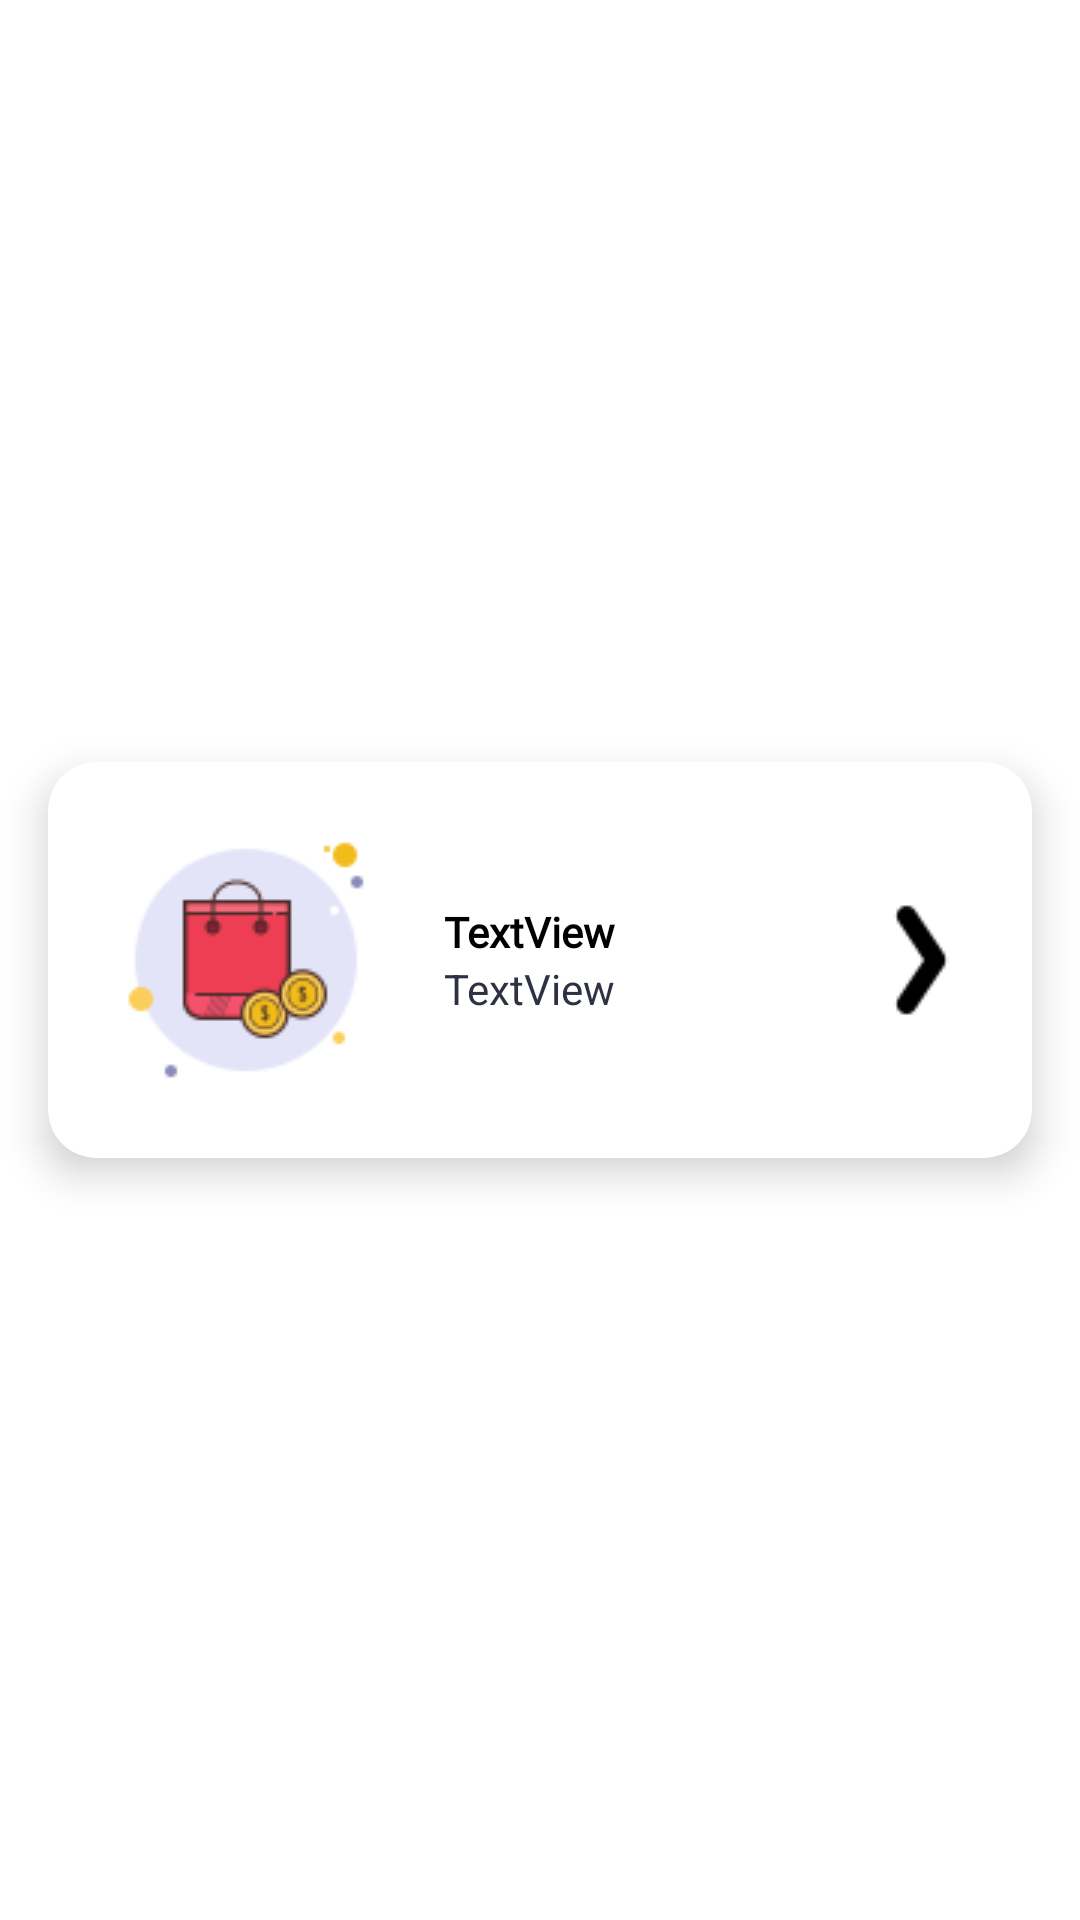

Screen size 1080*1920. Icon name, then its box in pixels as (x1, y1, x2, y2):
arrow right: (896, 905, 947, 1015)
bag: (128, 842, 364, 1078)
